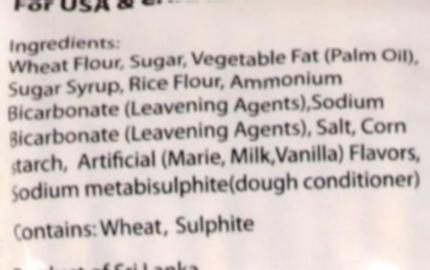ingredients: (2, 21, 430, 237)
